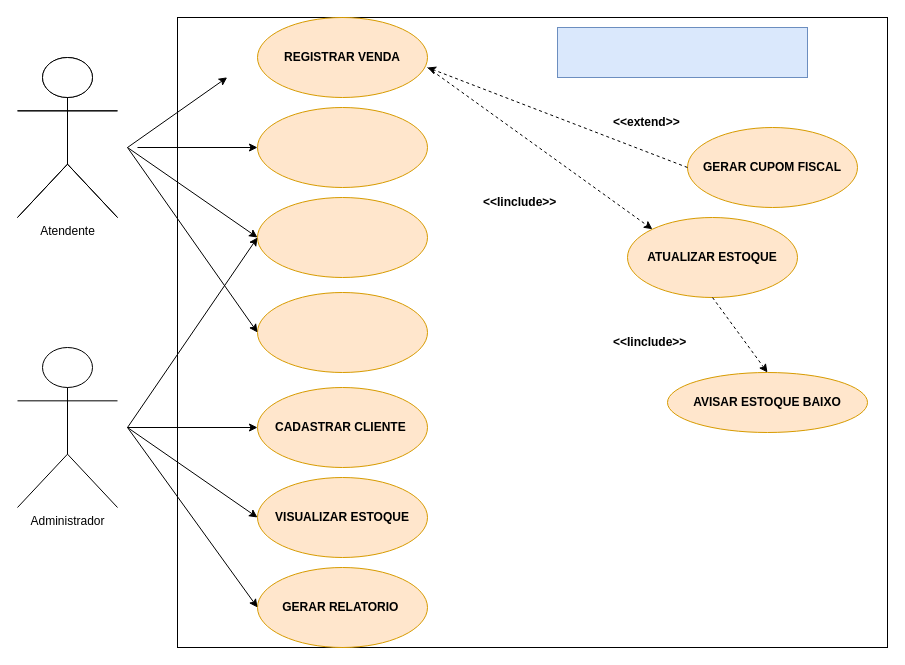
Image size: 905x665. Some labels were removed from this diagram. The shapes that lost their labels are listed below. From the top down, each one's centre as x and y in pixels, then its label:
At (x=682, y=52): "SISTEMA FARMÁCIA VIDA SAUDÁVEL".
At (x=342, y=147): "PESQUISAR PRODUTO".
At (x=342, y=237): "CADASTARAR PRODUTO".
At (x=342, y=332): "LOGIN NO SISTEMA".
